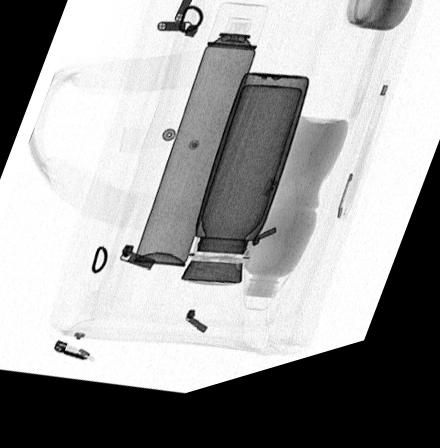Sprayer: (132, 15, 268, 278)
